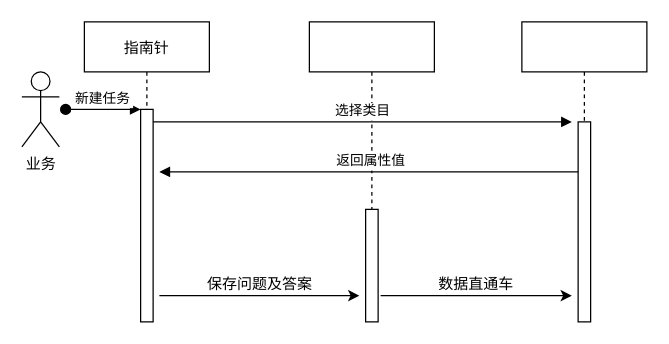
Some shapes in this 669 by 344 pixel diagram are drawn without their labels. Here are the shapes that lost their labels. From the top down, the box of each, then its label:
(308, 21, 434, 322): MySQL
(521, 21, 647, 322): 算法
